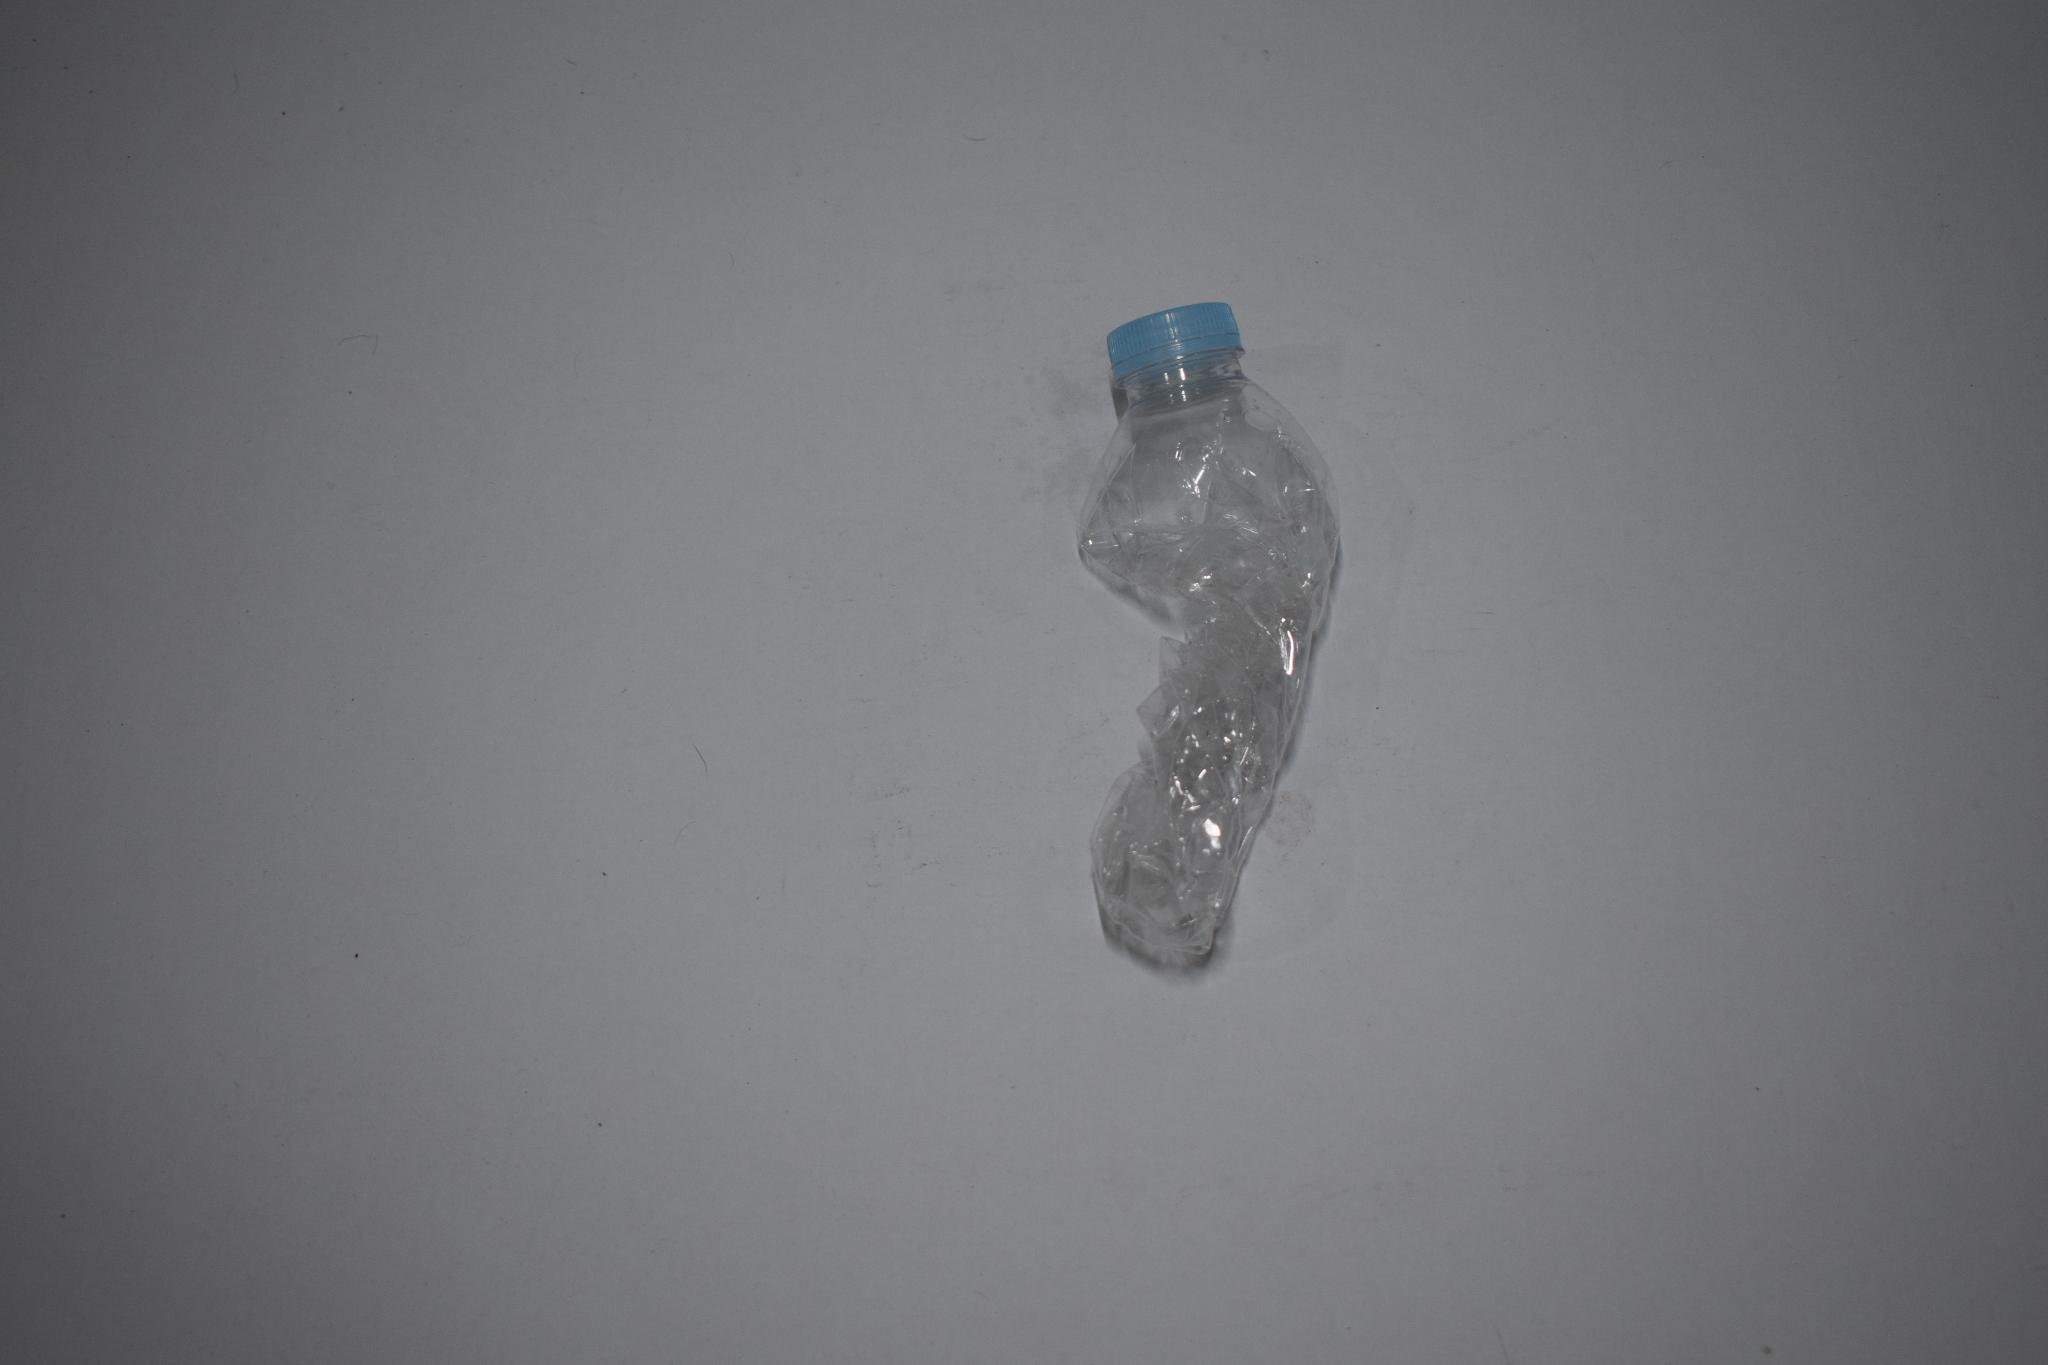bottle: (1068, 249, 1352, 983)
